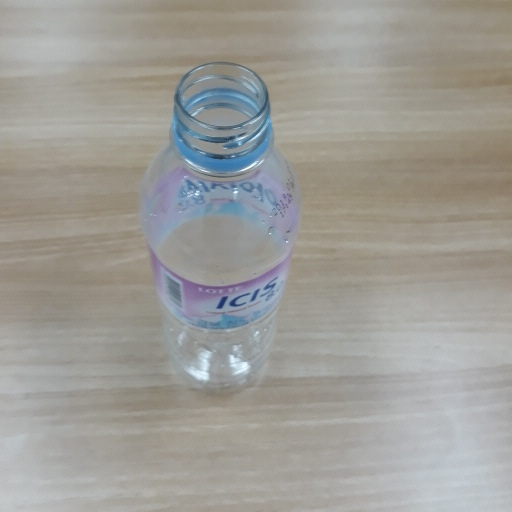Plastic_0: (142, 60, 301, 401)
